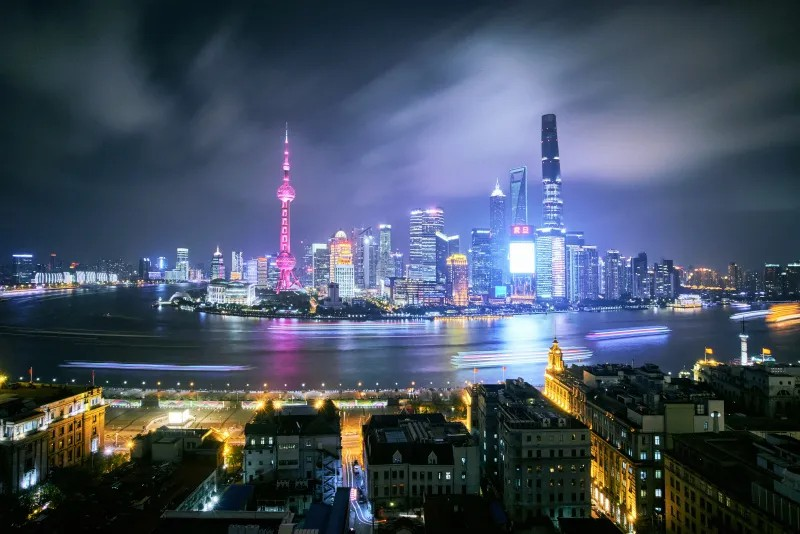Oriental: (275, 121, 301, 293)
